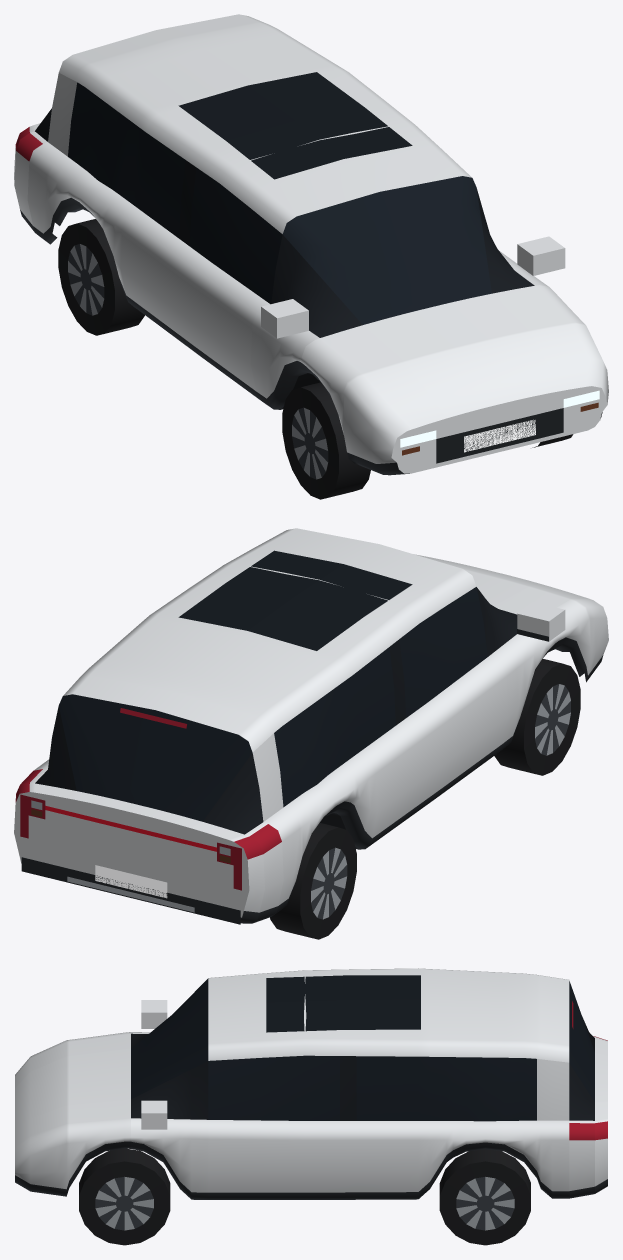
Rendered from vehicle.glb.
3 views of the same model, one above another, from view 1: azimuth 30°, elevation 25°; view 2: azimuth 150°, elevation 25°; view 3: azimuth 270°, elevation 25° (orthographic). The views are drawn at different scales.
Visible parts, largest first — view 1: Body, Wheel_FR, Wheel_RR; view 2: Body, Wheel_RR, Wheel_FR, Tail, Brake_L, Brake_R; view 3: Body, Wheel_FL, Wheel_RL.
Boxes of the visible parts, x1,y1,x2,y2 form: Body: (14, 14, 608, 475); Wheel_FR: (282, 382, 370, 499); Wheel_RR: (58, 219, 144, 335); Body: (14, 528, 608, 924); Wheel_RR: (270, 823, 356, 939); Wheel_FR: (494, 658, 580, 775); Tail: (45, 805, 216, 851); Brake_L: (20, 794, 45, 838); Brake_R: (217, 842, 241, 890); Body: (15, 968, 607, 1199); Wheel_FL: (79, 1148, 170, 1245); Wheel_RL: (439, 1149, 530, 1245).
Size of the model in its own units: 2.08 by 1.7 by 4.62.
